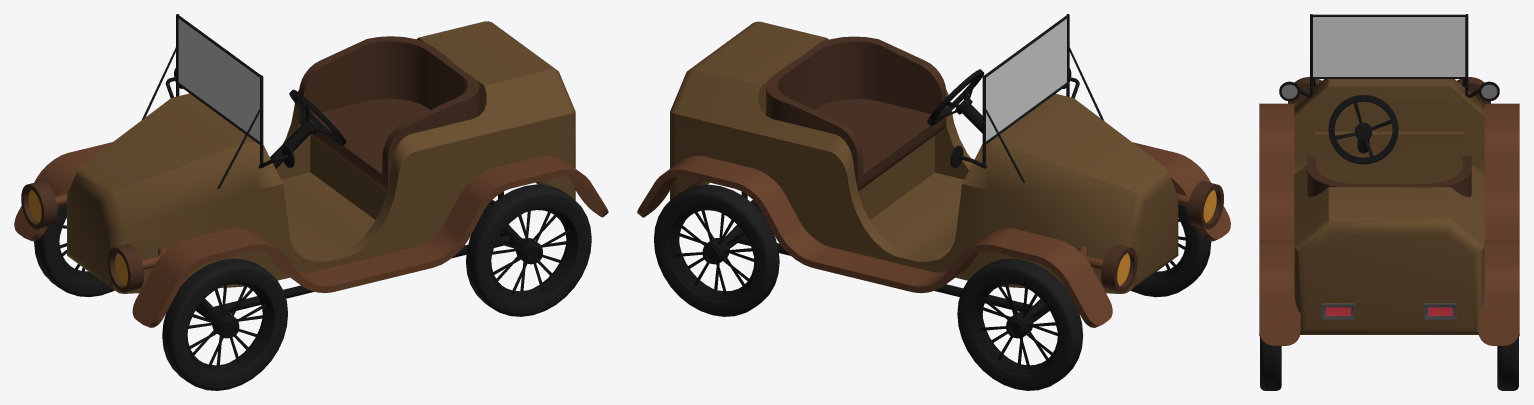
File: VintageCarBrown.fbx
3 renders of one model, left to right at view 1: azimuth 30°, elevation 25°; view 2: azimuth 150°, elevation 25°; view 3: azimuth 270°, elevation 25°, orthographic. The views are drawn at different scales.
Parts seen in each view (by area): view 1: Plane.003; view 2: Plane.003; view 3: Plane.003.
Part boxes in pixels (x1,y1,x2,y2): Plane.003: (14,14,608,390); Plane.003: (637,14,1230,390); Plane.003: (1259,14,1519,390).
Bounding box in the file's own units: 763 × 439 × 398.
